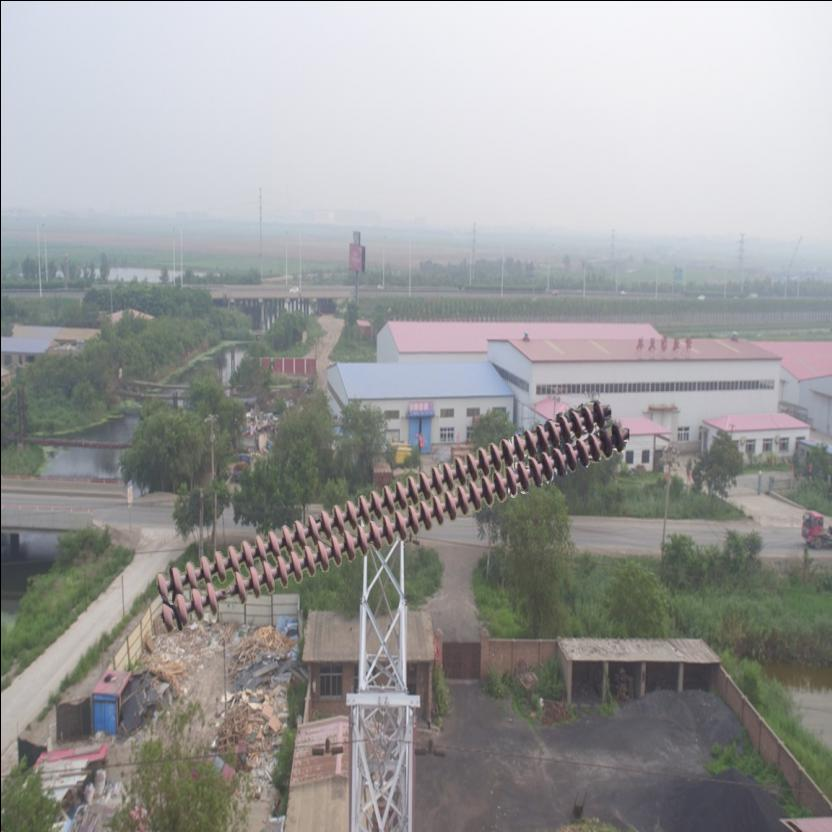defect: (203, 566, 251, 614)
